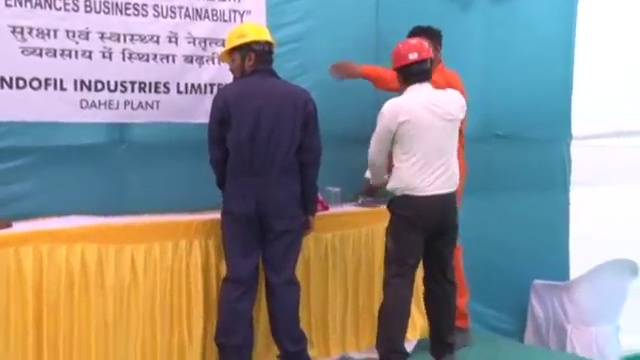helmet: (219, 22, 276, 64), (389, 37, 436, 69)
helmet_off: (411, 24, 446, 65)
helmet_on: (218, 23, 276, 74), (389, 36, 435, 87)
person: (206, 21, 319, 359), (367, 37, 466, 360), (410, 24, 467, 193)
